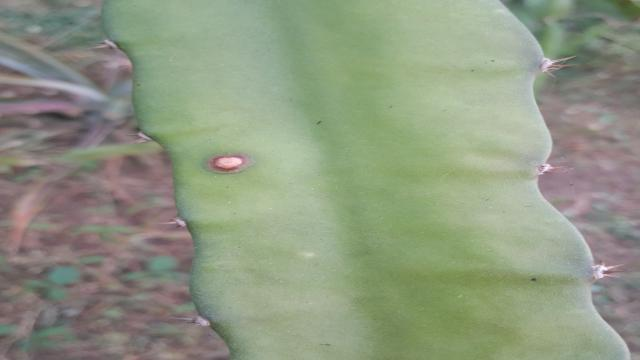stemcanker: (196, 150, 261, 183)
